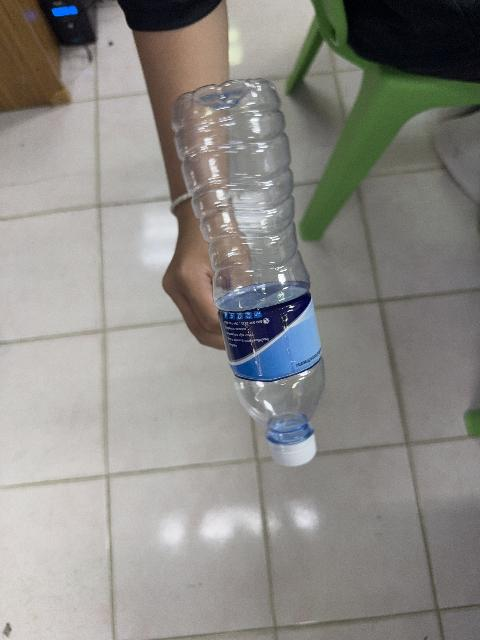bottle: (173, 80, 324, 465)
